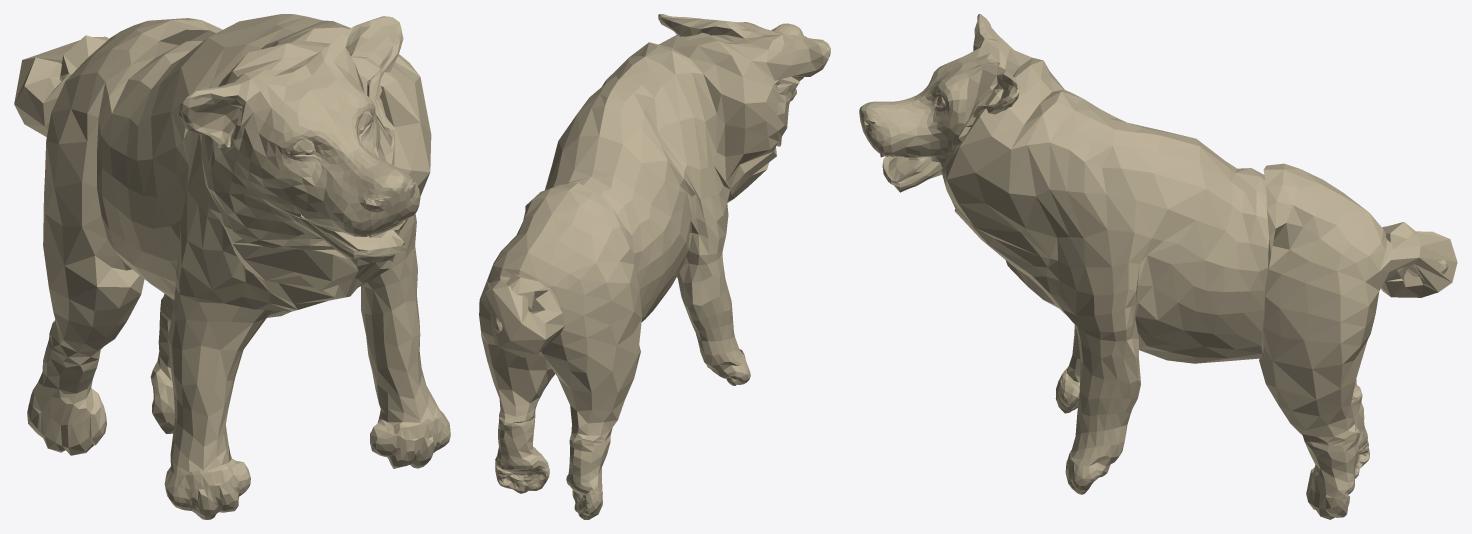
The picture shows the model from 3 angles, left to right: view 1: azimuth 30°, elevation 25°; view 2: azimuth 150°, elevation 25°; view 3: azimuth 270°, elevation 25°; orthographic projection. The views are drawn at different scales.
Parts seen in each view (by area): view 1: world; view 2: world; view 3: world.
Boxes of the visible parts, <box> form: world: <box>14,14,450,519</box>; world: <box>479,14,830,519</box>; world: <box>859,14,1457,519</box>.
Bounding box in the file's own units: 0.5399 × 0.8801 × 1.11.
